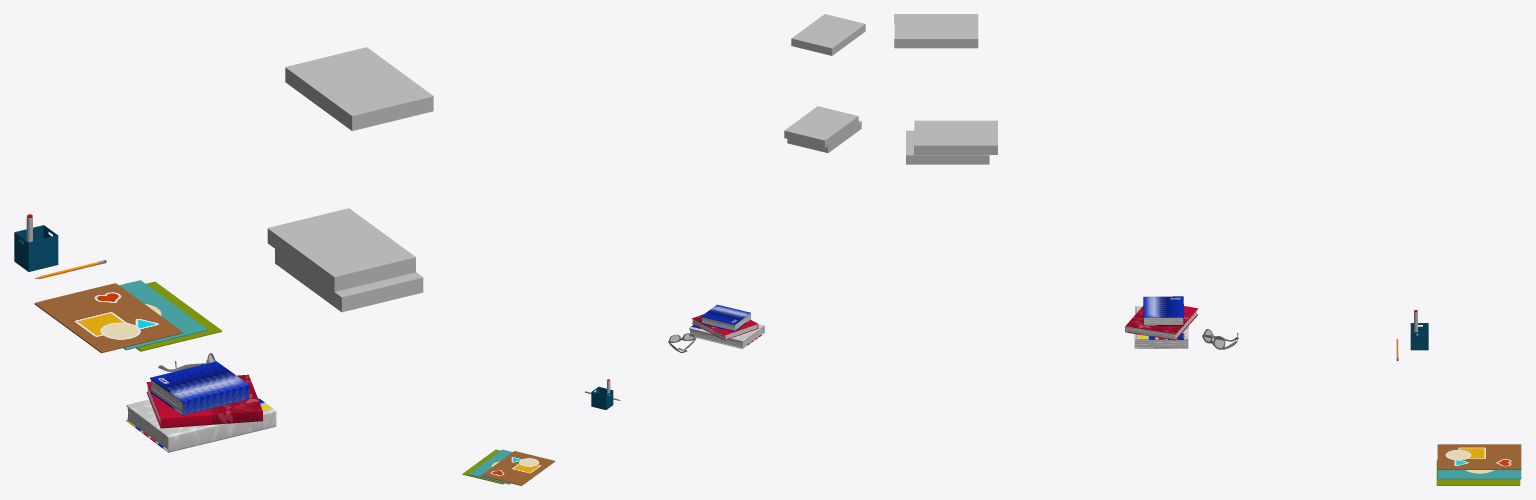
The model's file is m_books.FBX.
3 renders of one model, left to right at view 1: azimuth 30°, elevation 25°; view 2: azimuth 150°, elevation 25°; view 3: azimuth 270°, elevation 25°, orthographic. The views are drawn at different scales.
Parts seen in each view (by area): view 1: book1, book3, Geometry book1, book002, book003, book2, book01, Geometry book2, Pen boxes, Geometry book3; view 2: book3, book1, Geometry book1, book002, book003, book01, book2, Geometry book2, Pen boxes; view 3: book1, book3, Geometry book1, book002, book2, book01, Geometry book2, book003.
Part boxes in pixels (x1,y1,x2,y2): book1: [285, 47, 433, 130]; book3: [267, 208, 415, 291]; Geometry book1: [34, 283, 182, 353]; book002: [150, 361, 249, 415]; book003: [126, 397, 276, 452]; book2: [275, 249, 423, 312]; book01: [146, 374, 262, 428]; Geometry book2: [119, 280, 207, 350]; Pen boxes: [14, 225, 58, 271]; Geometry book3: [136, 281, 221, 351]; book3: [784, 106, 858, 147]; book1: [791, 14, 865, 55]; Geometry book1: [481, 451, 555, 485]; book002: [701, 304, 750, 331]; book003: [689, 324, 764, 348]; book01: [692, 314, 758, 340]; book2: [787, 120, 861, 152]; Geometry book2: [468, 449, 512, 484]; Pen boxes: [591, 386, 613, 409]; book1: [894, 14, 978, 48]; book3: [914, 120, 997, 154]; Geometry book1: [1437, 444, 1521, 469]; book002: [1143, 296, 1183, 325]; book2: [906, 130, 989, 164]; book01: [1125, 306, 1198, 340]; Geometry book2: [1437, 469, 1521, 479]; book003: [1134, 306, 1188, 348].
Size of the model in its own units: 80.01 by 152 by 227.
